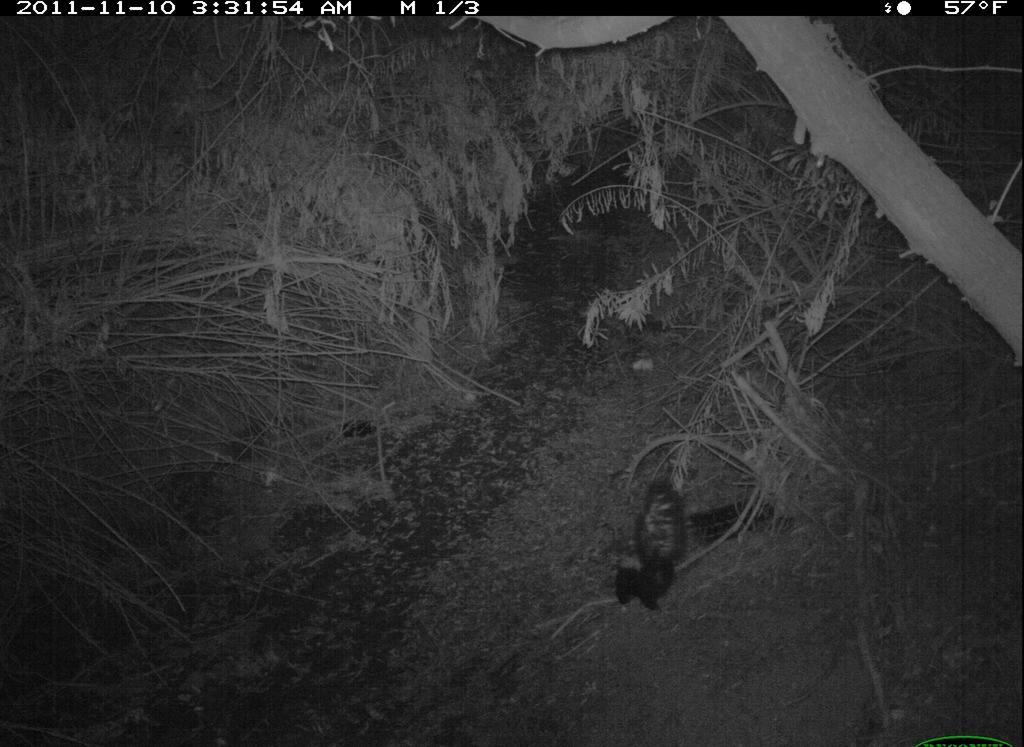skunk: (600, 455, 703, 625)
